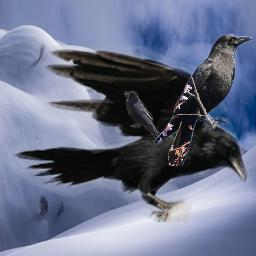Crow: (8, 46, 249, 222), (154, 33, 252, 166), (124, 91, 160, 138)
